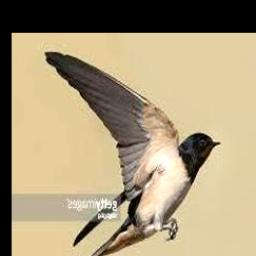Swallow: (44, 51, 222, 256)
